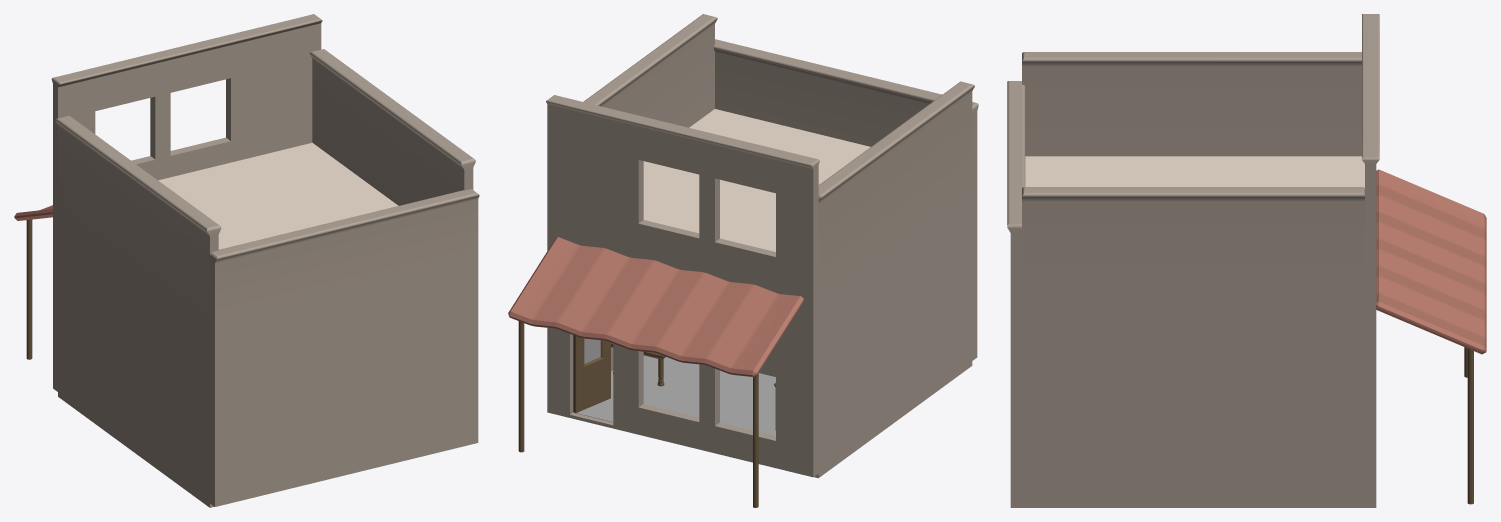
File: Store_Finalized 1.fbx
3 views of the same model, side by side, from view 1: azimuth 30°, elevation 25°; view 2: azimuth 150°, elevation 25°; view 3: azimuth 270°, elevation 25° (orthographic). The views are drawn at different scales.
Visible parts, largest first — view 1: polySurface196; view 2: polySurface196; view 3: polySurface196.
Part boxes in pixels (<box>): polySurface196: <box>14,14,479,507</box>; polySurface196: <box>508,14,978,507</box>; polySurface196: <box>1007,14,1486,507</box>.
Size of the model in its own units: 15.32 by 17.13 by 20.97.
